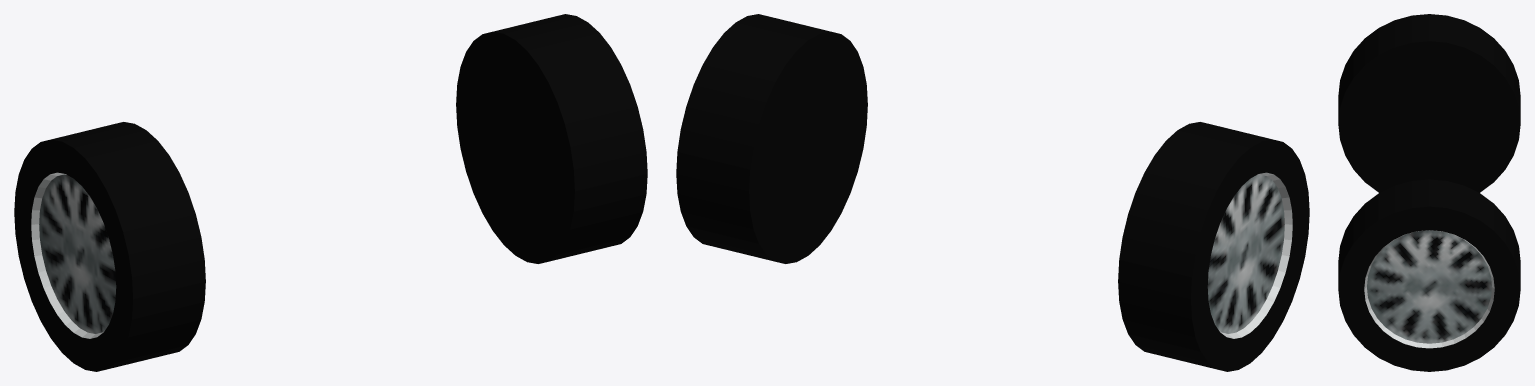
File: crown_victoria_wheels_f.obj
The picture shows the model from 3 angles, left to right: view 1: azimuth 30°, elevation 25°; view 2: azimuth 150°, elevation 25°; view 3: azimuth 270°, elevation 25°; orthographic projection. The views are drawn at different scales.
Visible parts, largest first — view 1: crown_victoria_wheels_f; view 2: crown_victoria_wheels_f; view 3: crown_victoria_wheels_f.
Boxes of the visible parts, x1=… form: crown_victoria_wheels_f: x1=14, y1=14, x2=647, y2=371; crown_victoria_wheels_f: x1=676, y1=14, x2=1309, y2=371; crown_victoria_wheels_f: x1=1338, y1=14, x2=1520, y2=371.
Size of the model in its own units: 1.87 by 0.7483 by 0.7483.
1 material, 1 textured.
